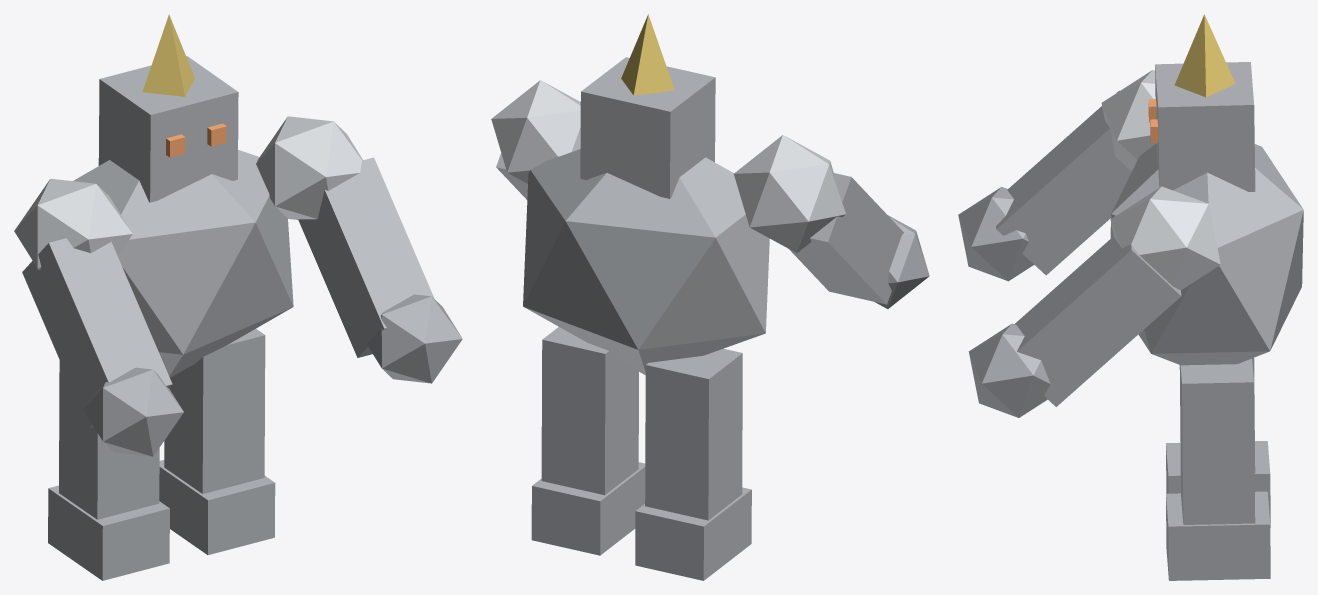
The model's file is npcpose_golem_attack_02.glb.
3 renders of one model, left to right at view 1: azimuth 30°, elevation 25°; view 2: azimuth 150°, elevation 25°; view 3: azimuth 270°, elevation 25°, orthographic.
Visible parts, largest first — view 1: npcpose; view 2: npcpose; view 3: npcpose.
Boxes of the visible parts, <box> form: npcpose: <box>14,14,462,580</box>; npcpose: <box>491,14,929,580</box>; npcpose: <box>958,14,1303,580</box>.
Bounding box in the file's own units: 1.38 × 1.93 × 1.15.
